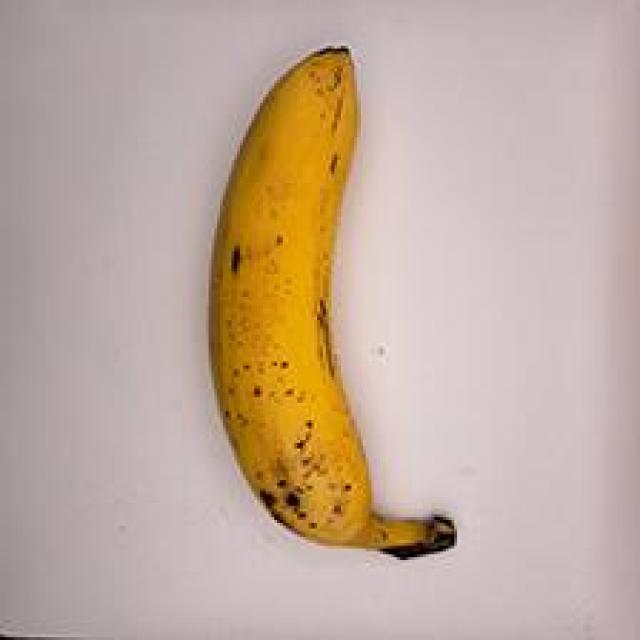Overripe: (165, 26, 477, 579)
